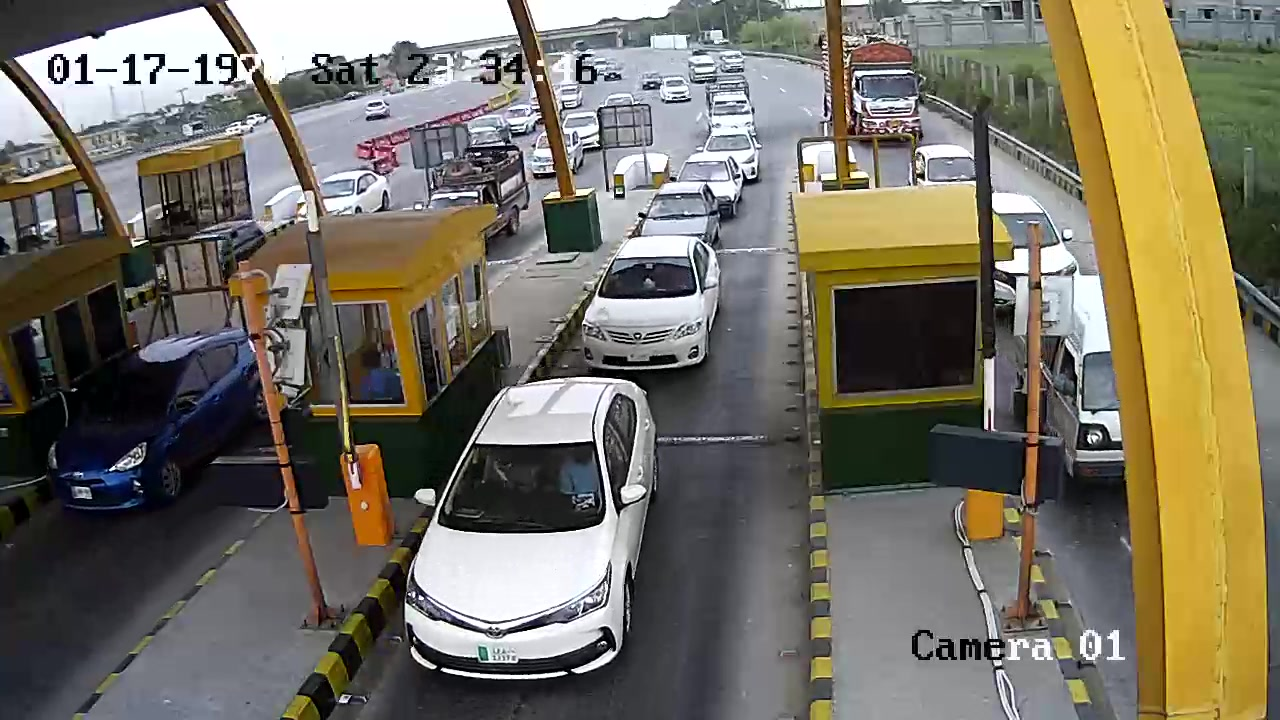F1: (395, 372, 660, 682)
